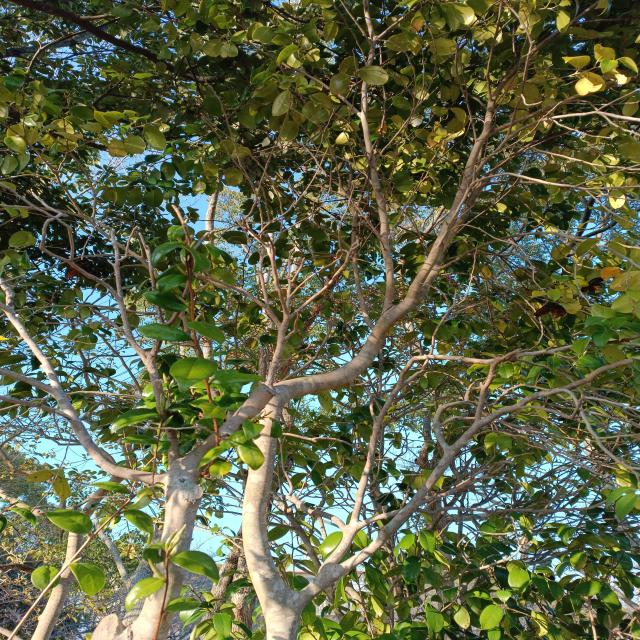Branch: (300, 358, 633, 609), (397, 0, 598, 310), (241, 302, 407, 617), (6, 311, 164, 488), (351, 383, 403, 523), (188, 384, 269, 473), (288, 494, 356, 580), (139, 351, 179, 458)
Twig: (1, 121, 150, 270), (194, 274, 285, 382), (32, 192, 119, 301), (441, 416, 594, 472), (360, 81, 395, 314), (433, 383, 550, 451), (359, 499, 606, 530), (560, 389, 639, 479), (397, 345, 573, 385), (243, 195, 290, 328), (0, 182, 74, 260), (404, 290, 462, 384), (108, 227, 146, 364), (346, 152, 375, 329), (290, 249, 350, 319), (474, 348, 527, 421), (420, 476, 520, 505), (241, 227, 270, 308), (291, 252, 343, 297), (0, 395, 71, 418), (90, 308, 124, 334), (0, 277, 16, 304), (286, 251, 292, 310)
